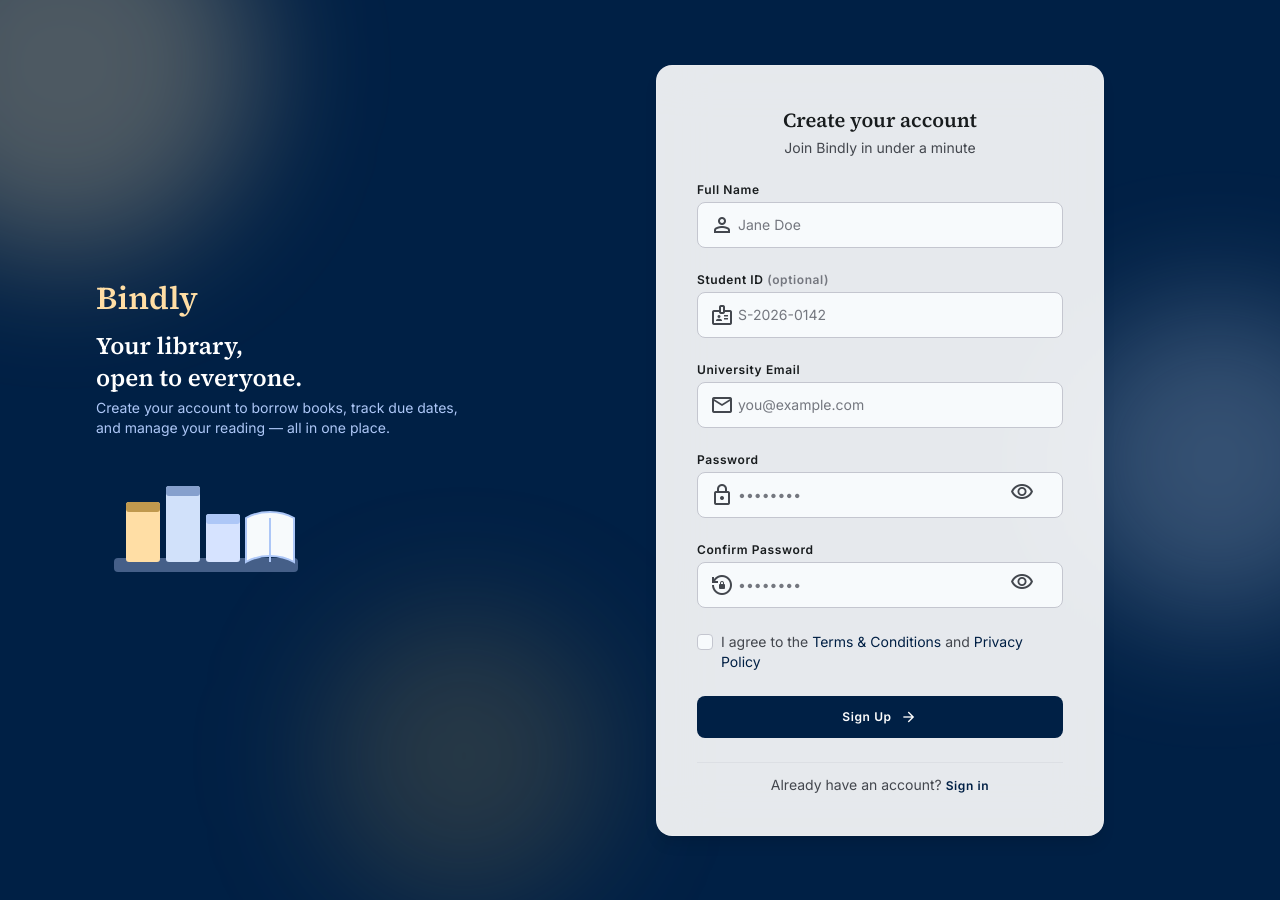
Test: Register - password strength meter › rates a long password with upper/lower/digit/symbol as Strong
Type "Password1!" into the password field labelled "Password" at (880, 494), box [698, 472, 1062, 516]
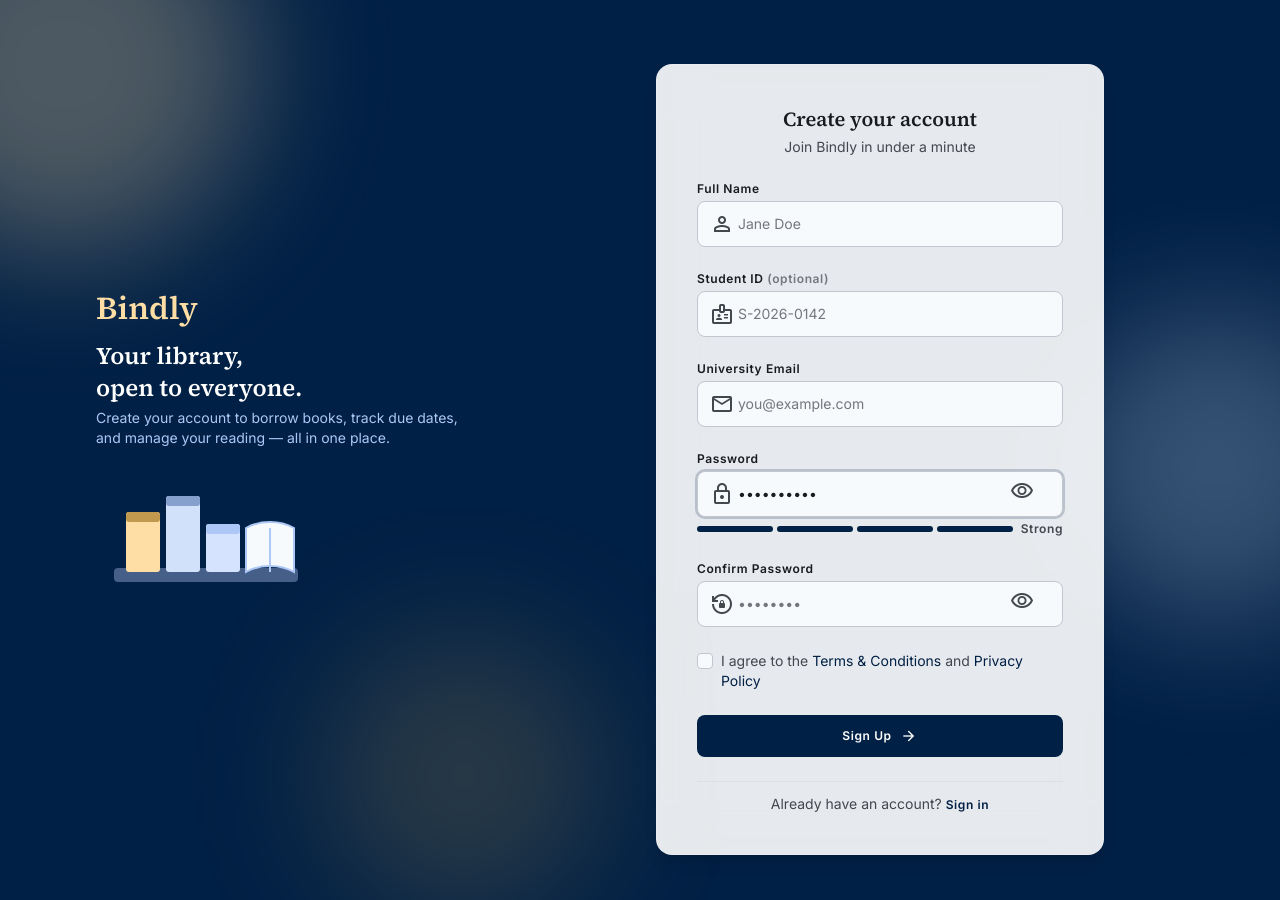
Result: the text "Strong" is shown at [1021, 521, 1063, 537]
